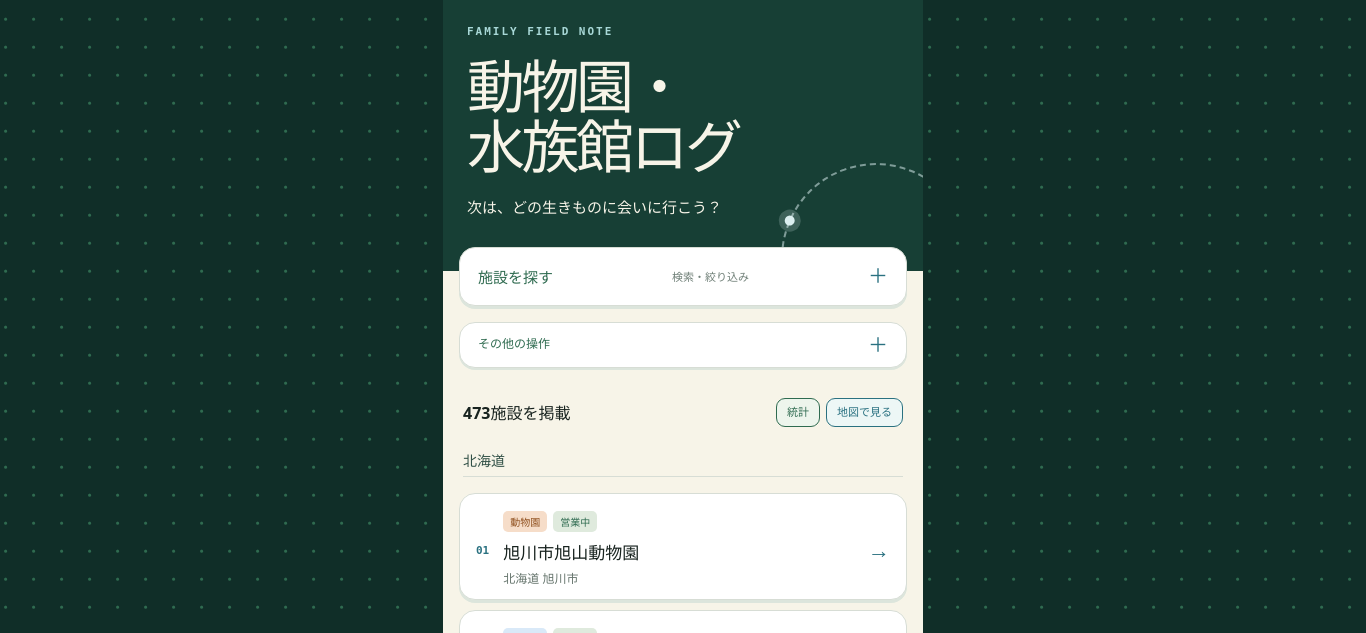
Test: App › shows guidance when there are no results
Click the text "施設を探す".
click(516, 276)  # box [478,266,553,287]
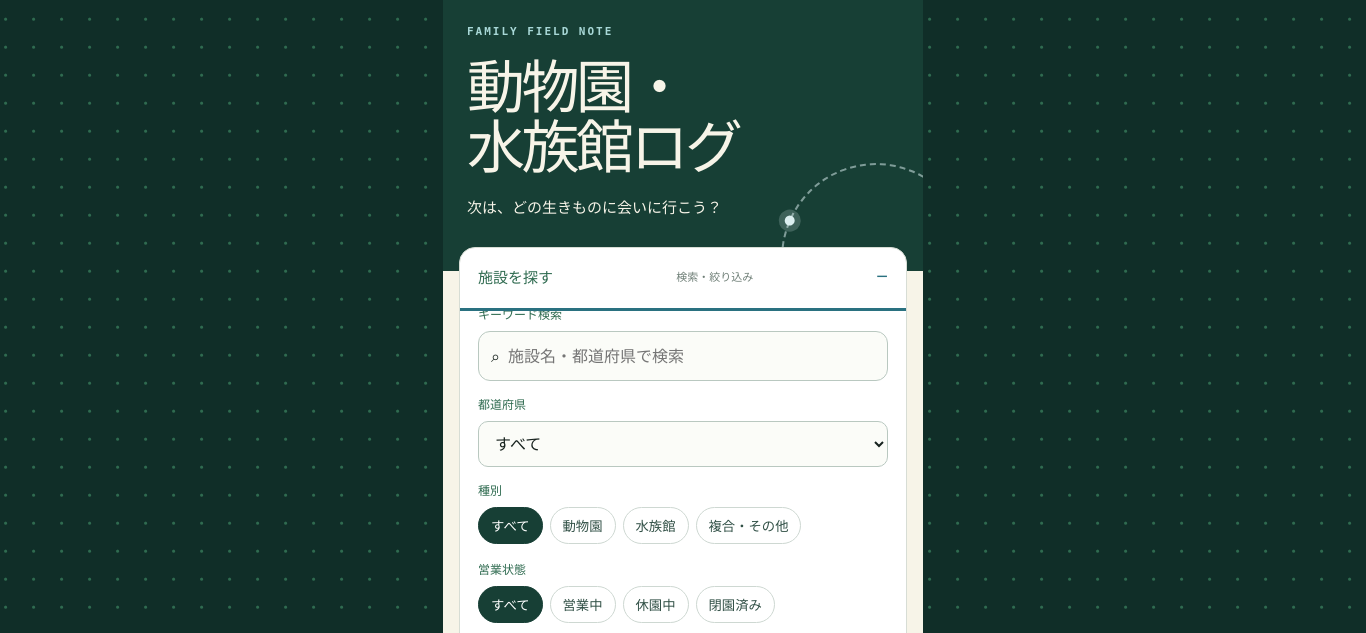
Type "存在しない" into the search field.
click(692, 356); type("存在しない")  # box [508,332,875,380]
(page scrolled)
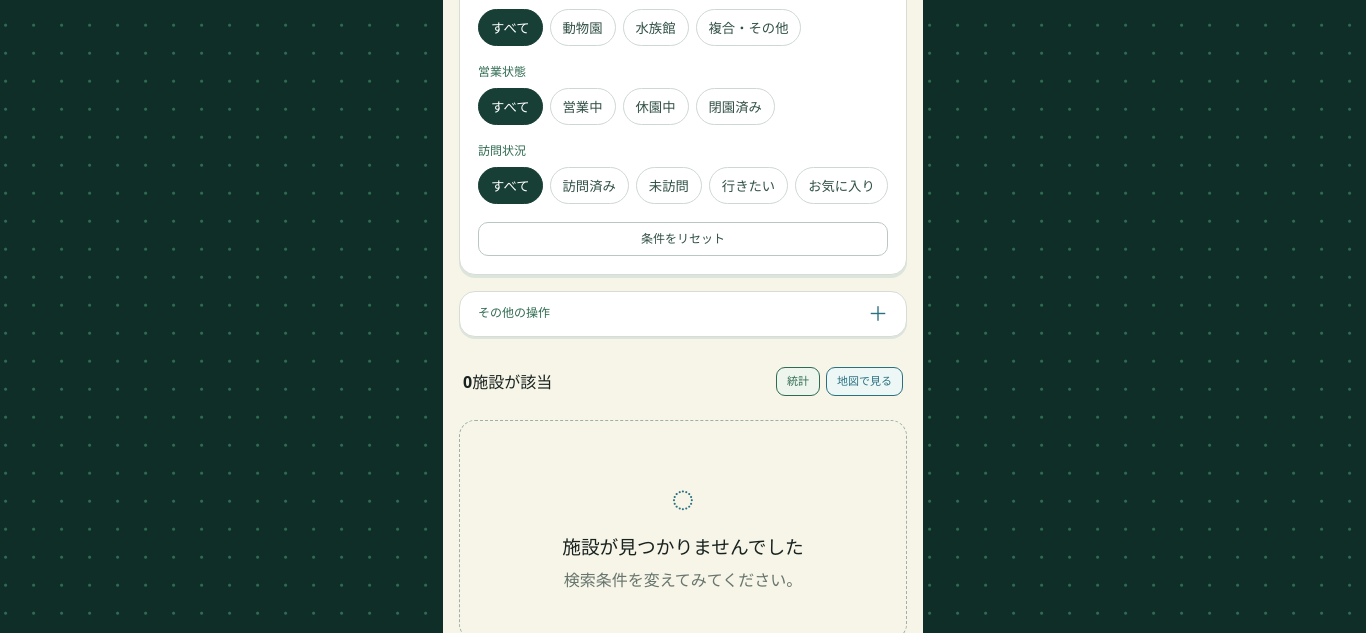
Expected: the heading "施設が見つかりませんでした" is shown, [562,534,804,559]
